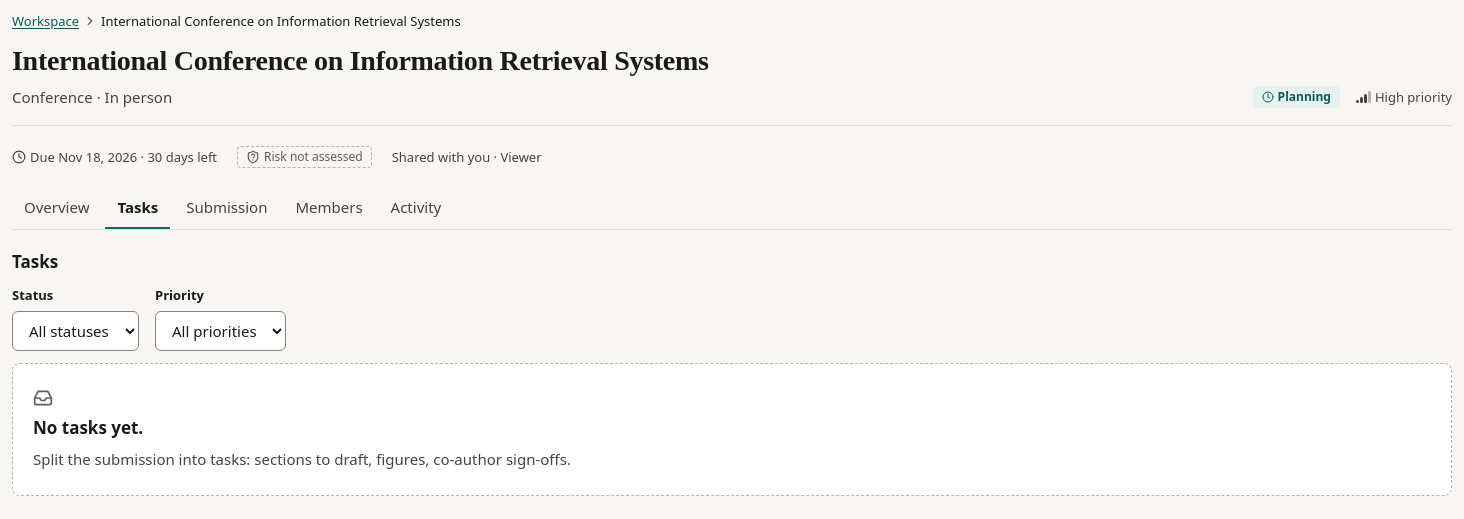
roles › shows a viewer the item read-only
Expected: the text "Shared with you · Viewer" is shown, [392,147,542,167]
Expected: the text "Planning" is shown, [1253,86,1340,108]
Step 1. Click the tab "Members" → coordinates (329, 209), box [283,188,375,229]
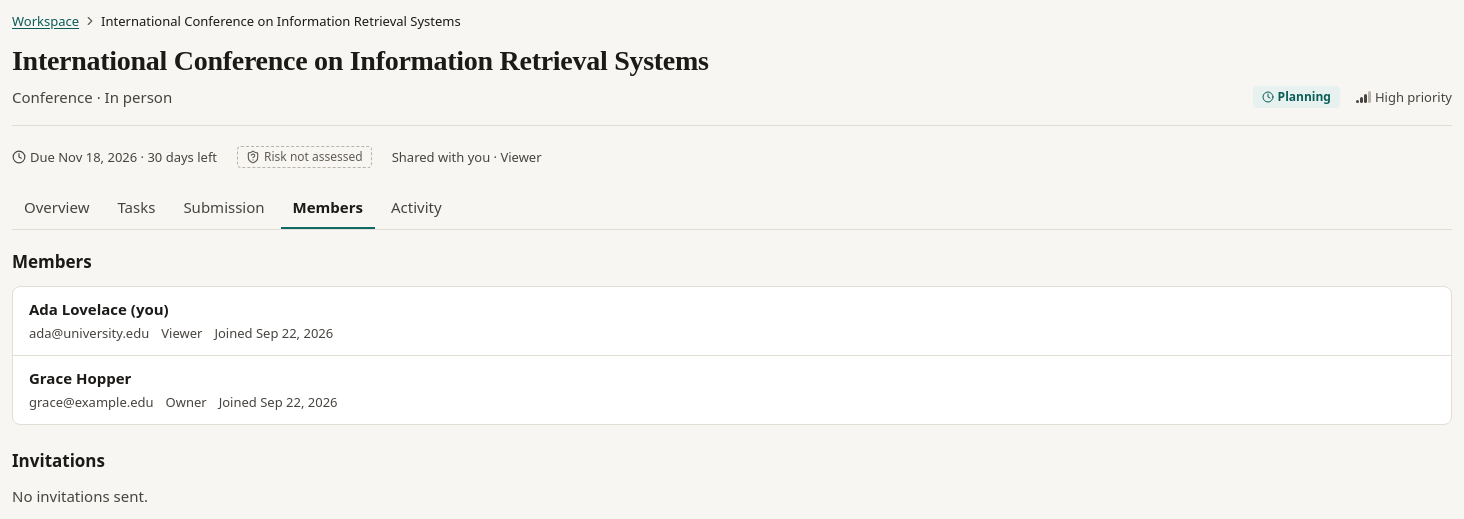
Now the heading "Grace Hopper" is shown, box [29,368,131,388]
